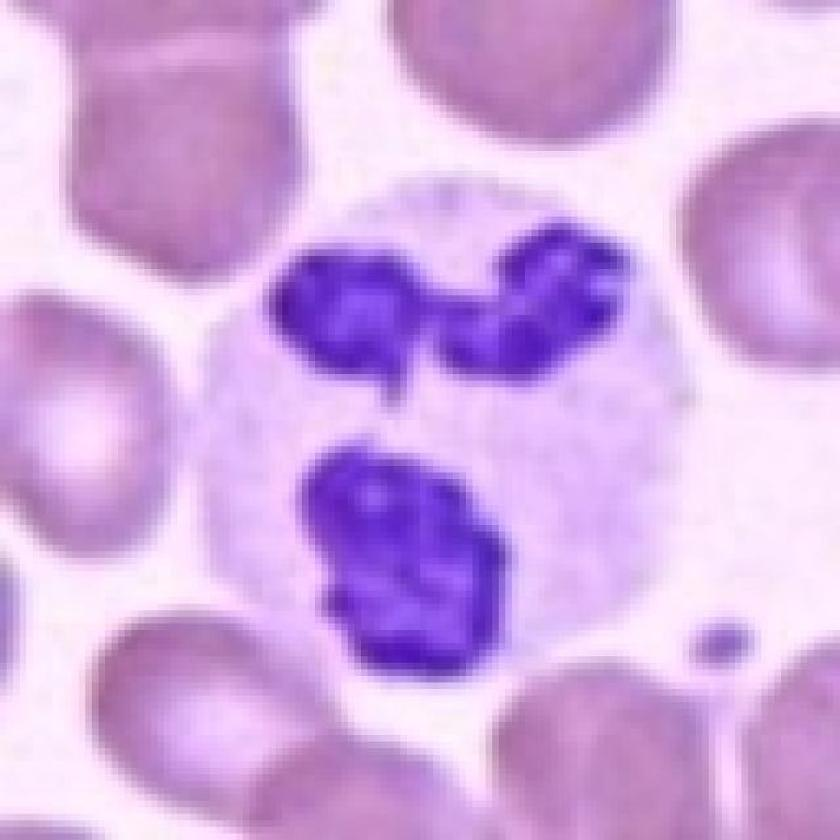neutrophil: (144, 169, 690, 661)
